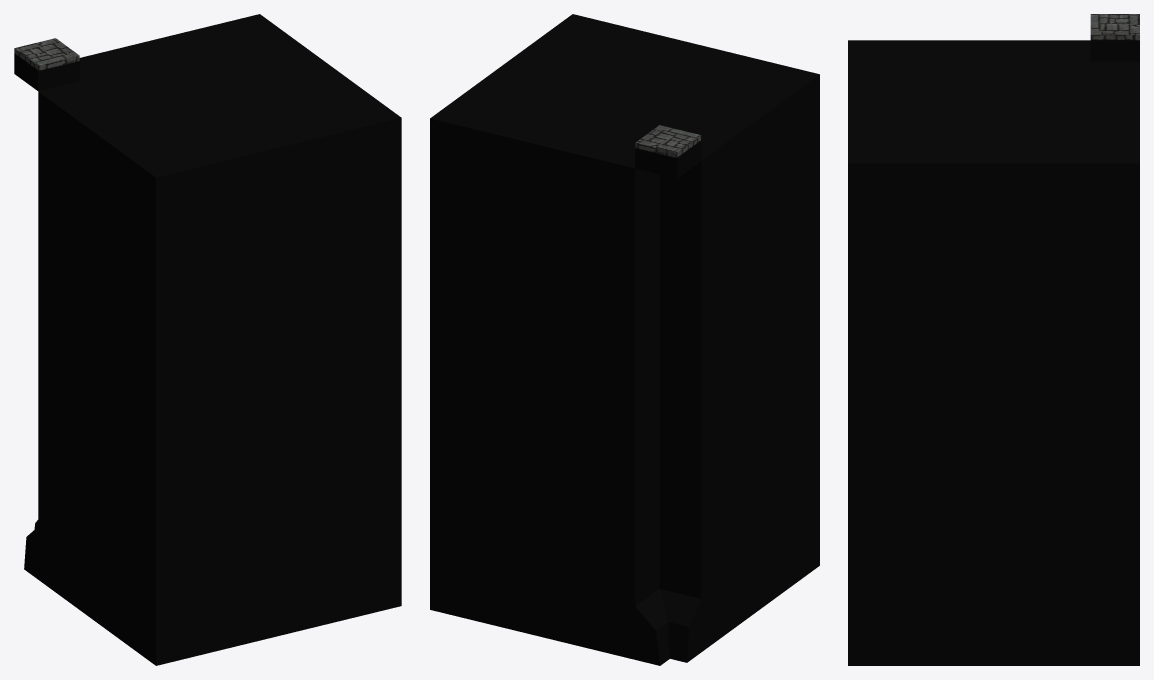
The model's file is Piece_CornerInner.FBX.
3 renders of one model, left to right at view 1: azimuth 30°, elevation 25°; view 2: azimuth 150°, elevation 25°; view 3: azimuth 270°, elevation 25°, orthographic. The views are drawn at different scales.
Parts seen in each view (by area): view 1: Piece_InnerCorner001; view 2: Piece_InnerCorner001; view 3: Piece_InnerCorner001.
Part boxes in pixels (left/top/right/bottom): Piece_InnerCorner001: left=14, top=14, right=401, bottom=665; Piece_InnerCorner001: left=430, top=14, right=819, bottom=665; Piece_InnerCorner001: left=848, top=14, right=1139, bottom=665.
Bounding box in the file's own units: 100 × 200 × 100.
